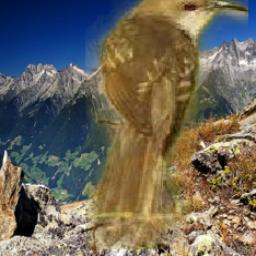Cuckoo: (84, 0, 247, 250)
